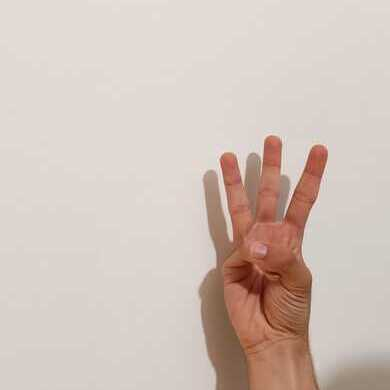W: (219, 136, 328, 355)
